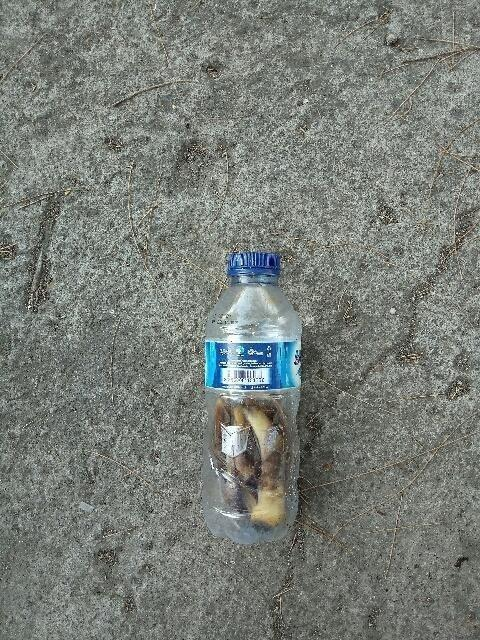bottle-plastic: (197, 244, 307, 552)
